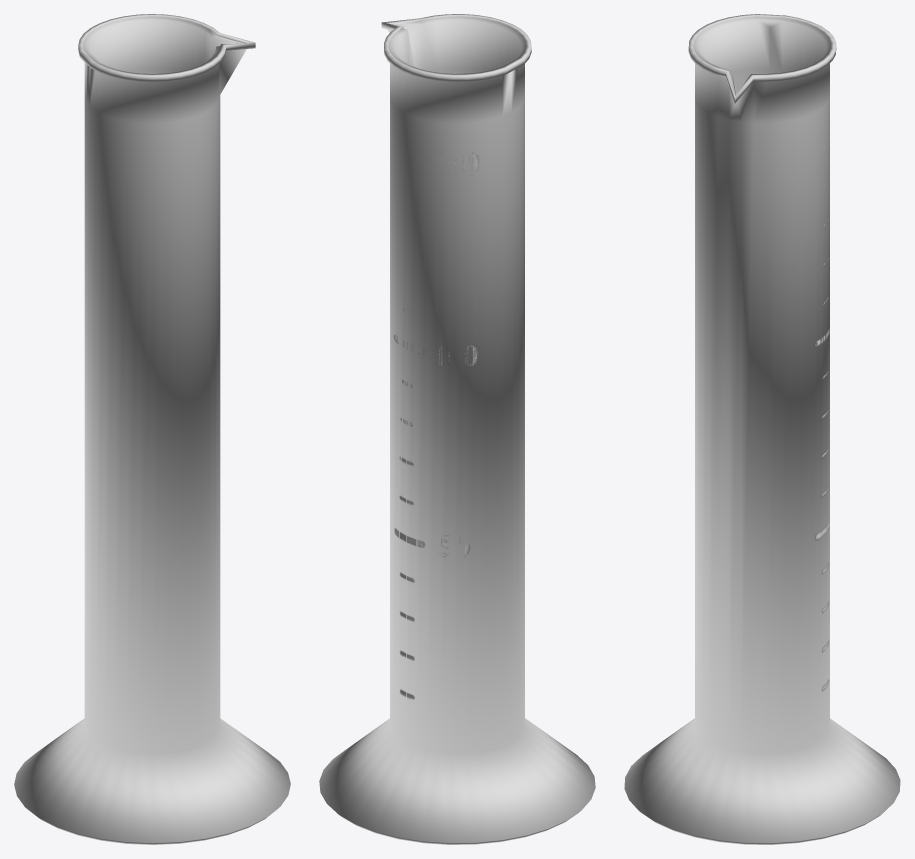
File: eprouvetteglb.glb
The picture shows the model from 3 angles, left to right: view 1: azimuth 30°, elevation 25°; view 2: azimuth 150°, elevation 25°; view 3: azimuth 270°, elevation 25°; orthographic projection.
Visible parts, largest first — view 1: Circle; view 2: Circle, 0-Photoroom-removebg-preview; view 3: Circle.
Part boxes in pixels (x1,y1,x2,y2): Circle: (14,14,290,844); Circle: (319,14,595,844); 0-Photoroom-removebg-preview: (394,152,478,699); Circle: (624,14,900,844).
Bounding box in the file's own units: 4.67 × 13.86 × 4.67.
2 materials, 1 textured.
